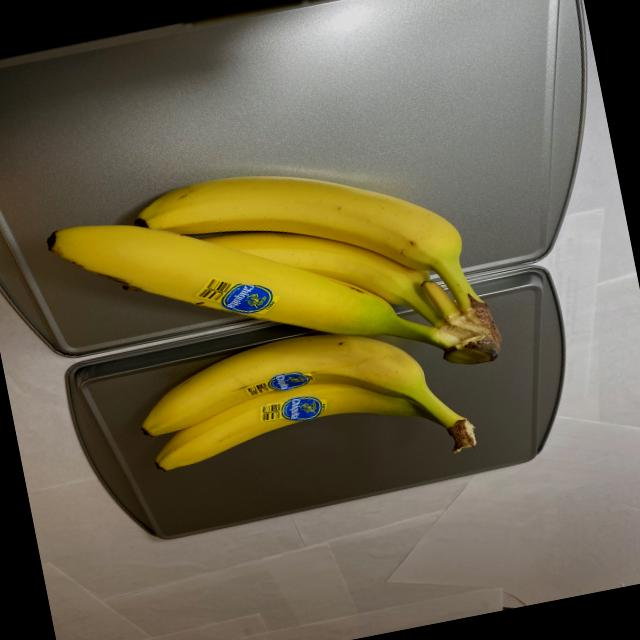banana: (25, 85, 521, 522)
